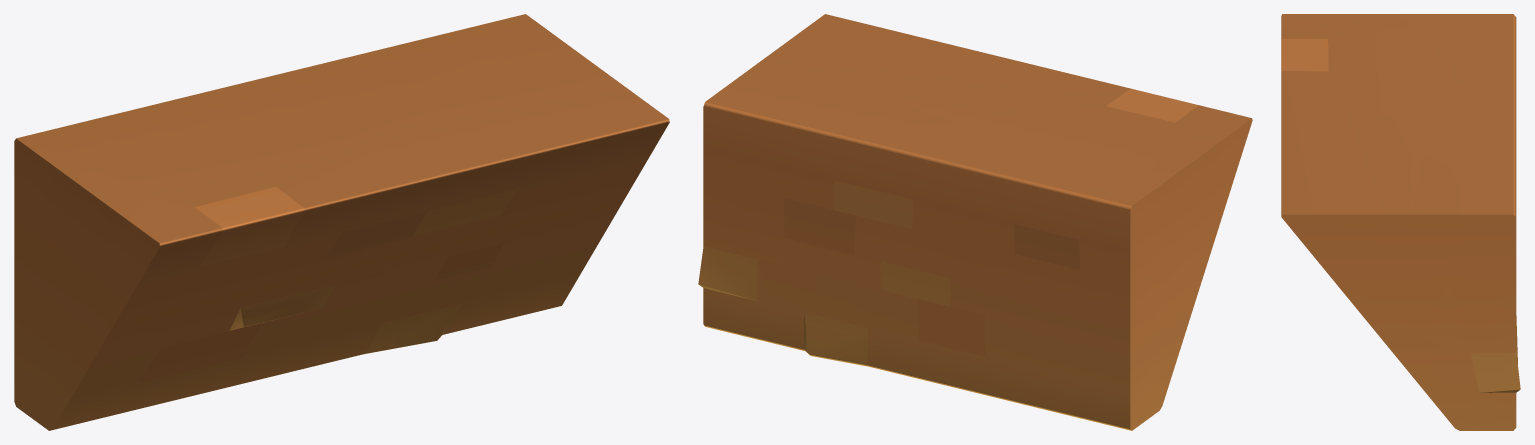
File: pyramid_wall_4m1.fbx
3 renders of one model, left to right at view 1: azimuth 30°, elevation 25°; view 2: azimuth 150°, elevation 25°; view 3: azimuth 270°, elevation 25°, orthographic. The views are drawn at different scales.
Parts seen in each view (by area): view 1: pyramid_wall_4m1; view 2: pyramid_wall_4m1; view 3: pyramid_wall_4m1.
Boxes of the visible parts, <box> form: pyramid_wall_4m1: <box>14,14,669,430</box>; pyramid_wall_4m1: <box>698,14,1252,430</box>; pyramid_wall_4m1: <box>1281,14,1520,430</box>.
Bounding box in the file's own units: 806 × 407 × 404.
